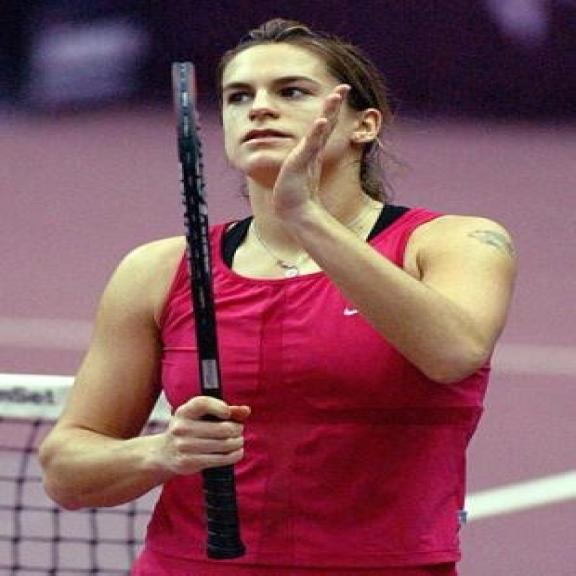face: (224, 42, 387, 175)
